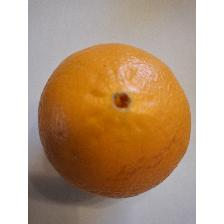Orange: (36, 38, 192, 200)
